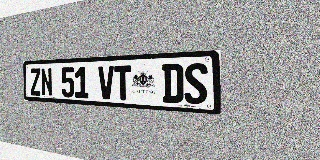1: (74, 67, 88, 98)
5: (61, 67, 75, 98)
D: (162, 64, 184, 103)
N: (41, 68, 53, 97)
S: (184, 63, 208, 105)
T: (114, 65, 132, 101)
V: (98, 66, 114, 100)
Z: (30, 68, 41, 96)
